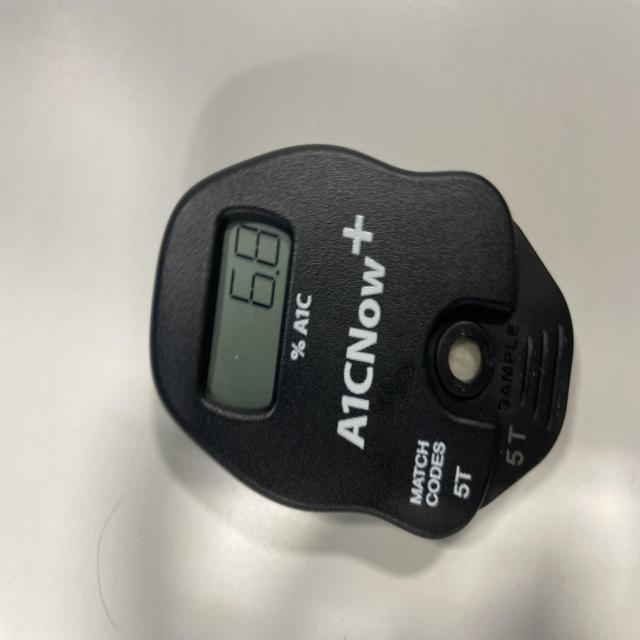hba1c: (149, 145, 577, 544)
